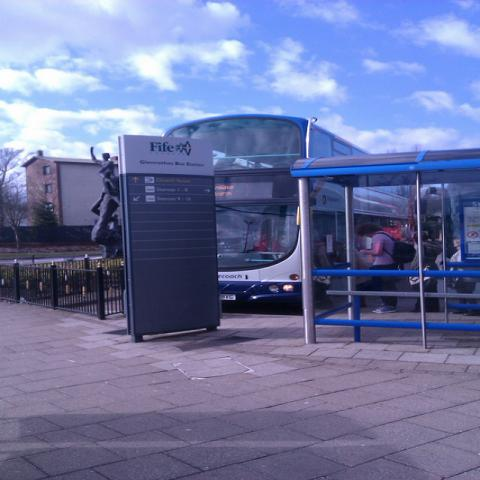bus: (162, 113, 307, 302)
